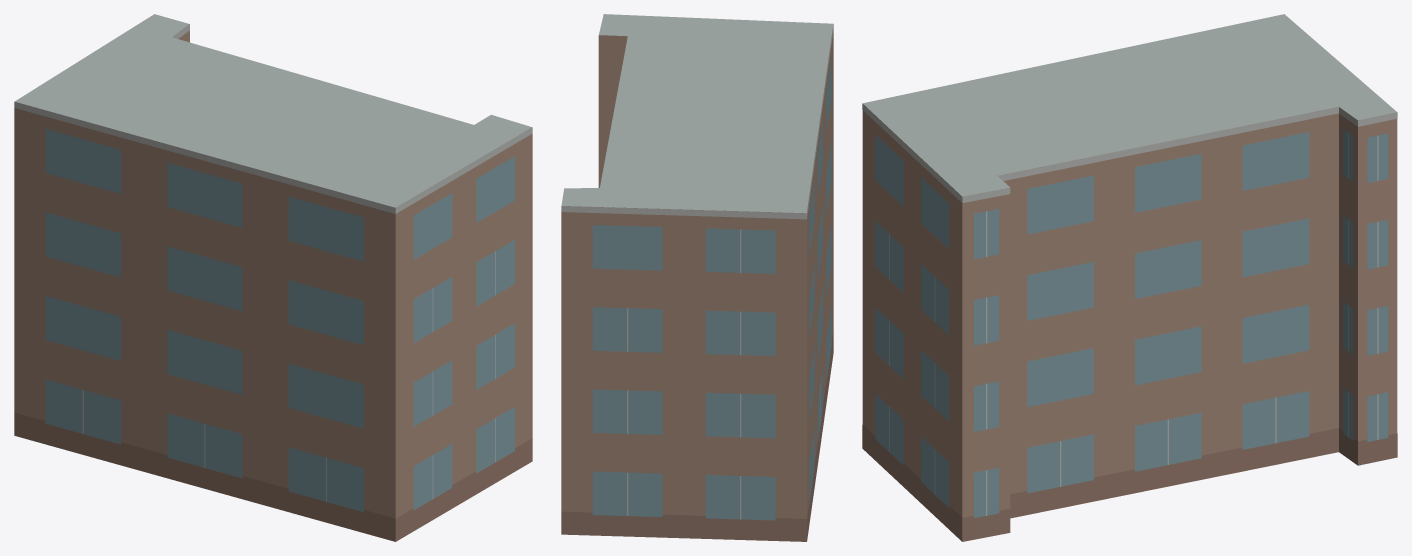
File: survey-upis-32757459.glb
3 views of the same model, side by side, from view 1: azimuth 30°, elevation 25°; view 2: azimuth 150°, elevation 25°; view 3: azimuth 270°, elevation 25° (orthographic). The views are drawn at different scales.
Visible parts, largest first — view 1: survey-upis-32757459.tmp; view 2: survey-upis-32757459.tmp; view 3: survey-upis-32757459.tmp.
Boxes of the visible parts, <box> form: survey-upis-32757459.tmp: <box>14,14,532,541</box>; survey-upis-32757459.tmp: <box>561,14,833,541</box>; survey-upis-32757459.tmp: <box>862,14,1397,541</box>.
Size of the model in its own units: 14.76 by 13 by 18.27.
